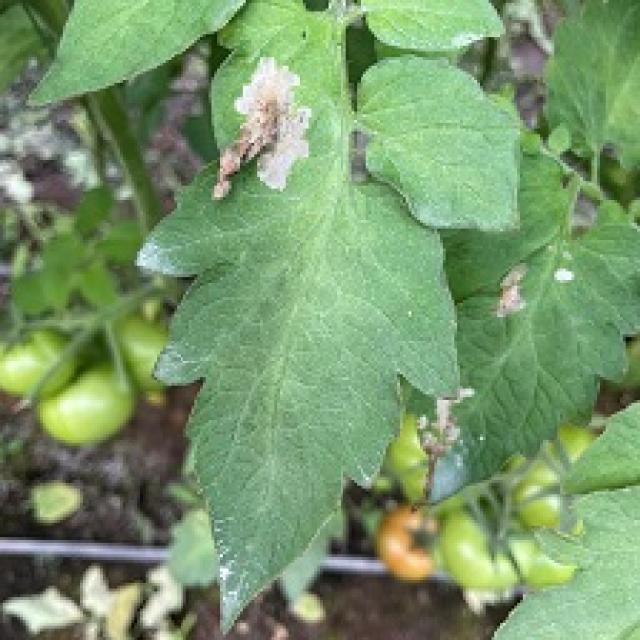Tuta absoluta: (209, 51, 327, 217), (496, 263, 530, 320)
